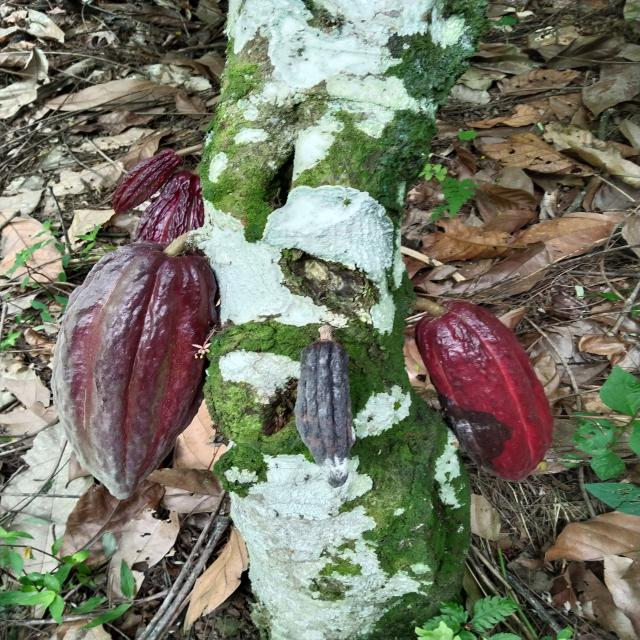Monilia: (63, 245, 223, 507), (419, 297, 548, 478), (295, 341, 354, 489)
Sana: (134, 168, 210, 240), (109, 147, 180, 217)
